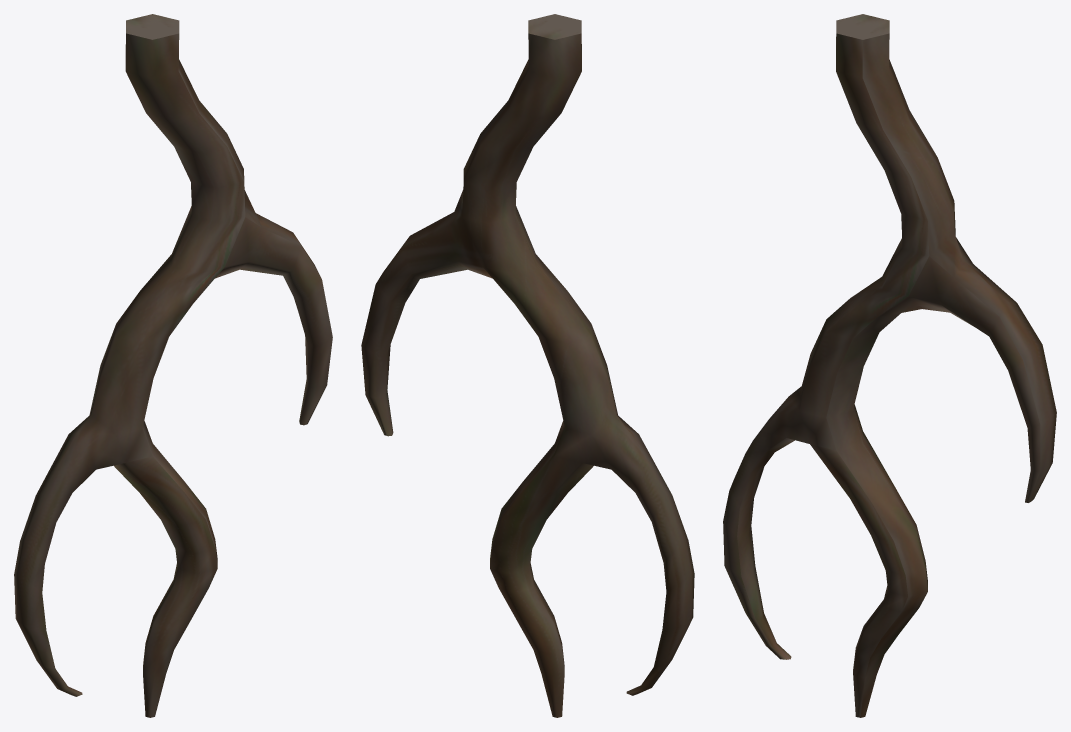
Rendered from burke_root.fbx.
3 views of the same model, side by side, from view 1: azimuth 30°, elevation 25°; view 2: azimuth 150°, elevation 25°; view 3: azimuth 330°, elevation 25° (orthographic).
Visible parts, largest first — view 1: root_mb; view 2: root_mb; view 3: root_mb.
Boxes of the visible parts, x1=… form: root_mb: x1=14, y1=14, x2=332, y2=717; root_mb: x1=361, y1=14, x2=694, y2=717; root_mb: x1=723, y1=14, x2=1056, y2=717.
Bounding box in the file's own units: 1.31 × 2.71 × 0.1964.
